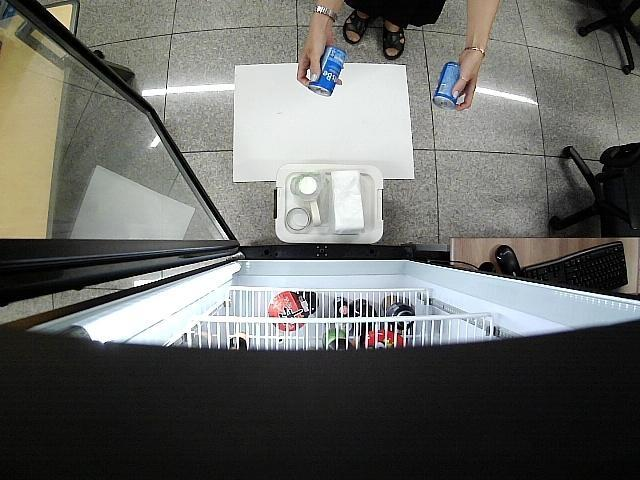15_letsbe: (308, 45, 346, 98), (433, 61, 462, 110)
